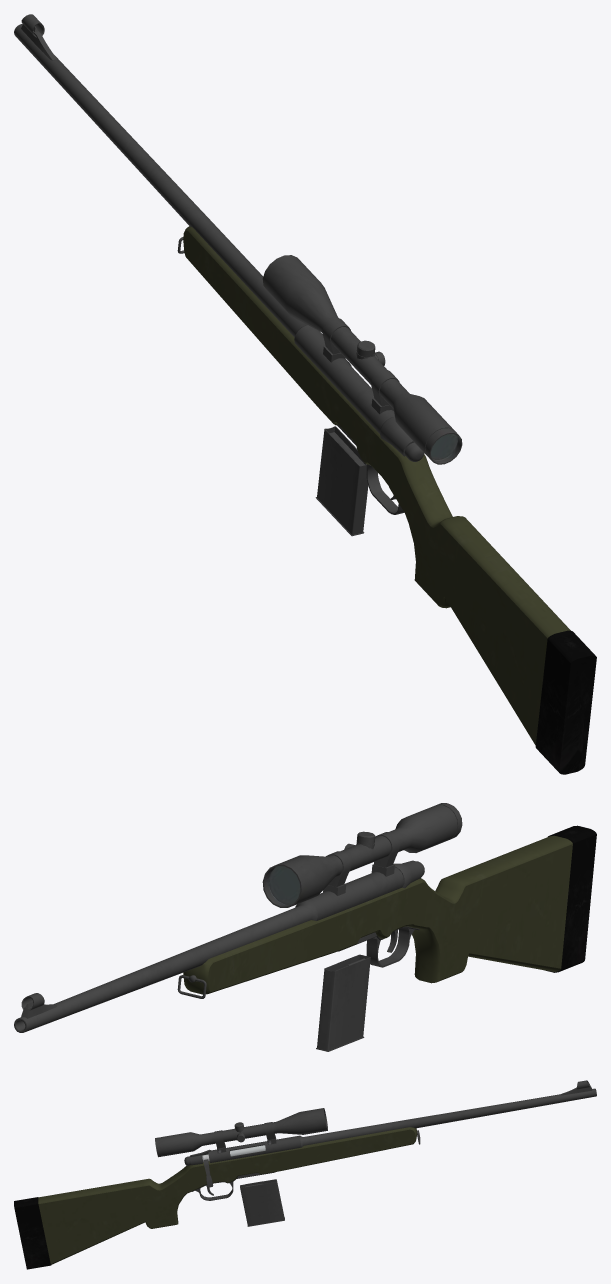
File: sniper.glb
The picture shows the model from 3 angles, top to bottom: view 1: azimuth 30°, elevation 25°; view 2: azimuth 150°, elevation 25°; view 3: azimuth 270°, elevation 25°; orthographic projection. The views are drawn at different scales.
Visible parts, largest first — view 1: Trigger; view 2: Trigger; view 3: Trigger.
Part boxes in pixels (box(x1,y1,x2,y2)): Trigger: box(14, 14, 596, 774); Trigger: box(14, 803, 596, 1051); Trigger: box(14, 1080, 596, 1269).
Bounding box in the file's own units: 0.0568 × 0.3966 × 1.12.
Materials: 1 (1 with a texture image).
